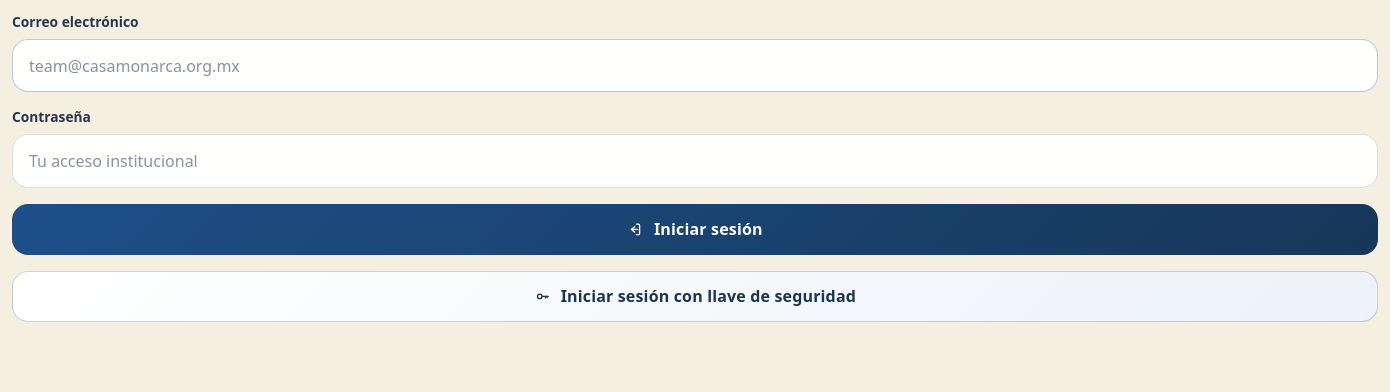
LoginForm › validates required credentials before sending a request
Click the button "Iniciar sesión": click(695, 229) [12,204,1378,255]
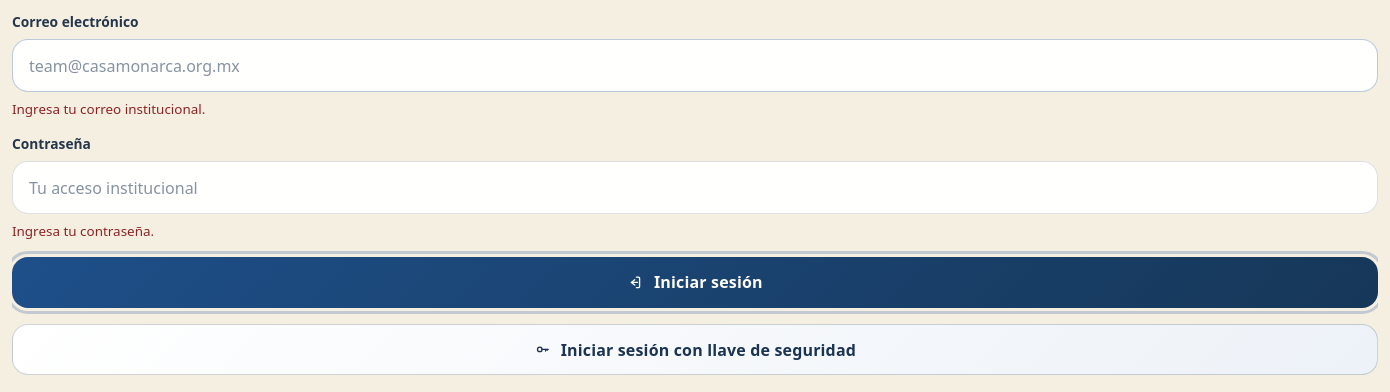
Expected: the text "Ingresa tu correo institucional." is shown, [12,100,205,118]
Expected: the text "Ingresa tu contraseña." is shown, [12,222,154,240]
